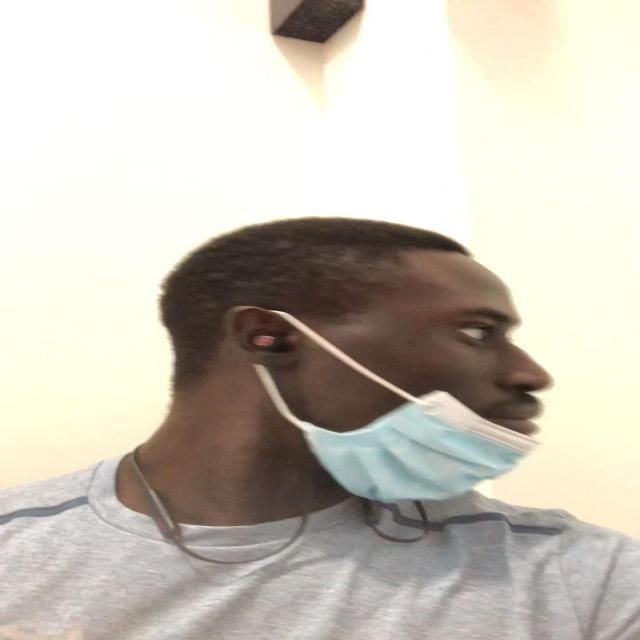face: (268, 265, 554, 504)
